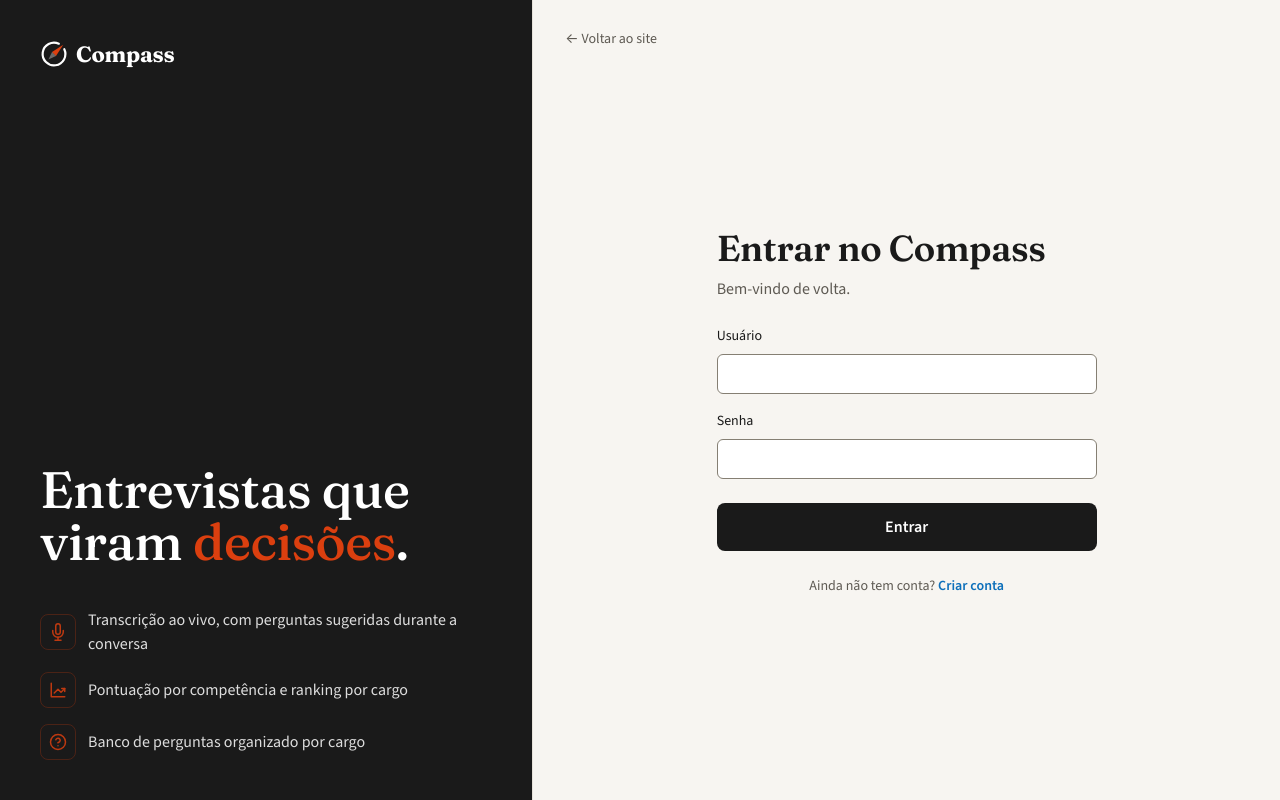
Test: login inválido mostra a mensagem da API
The image size is (1280, 800).
Type "ana" into the field labelled "Usuário".
click(907, 374); type("ana")  # box [717,354,1097,394]
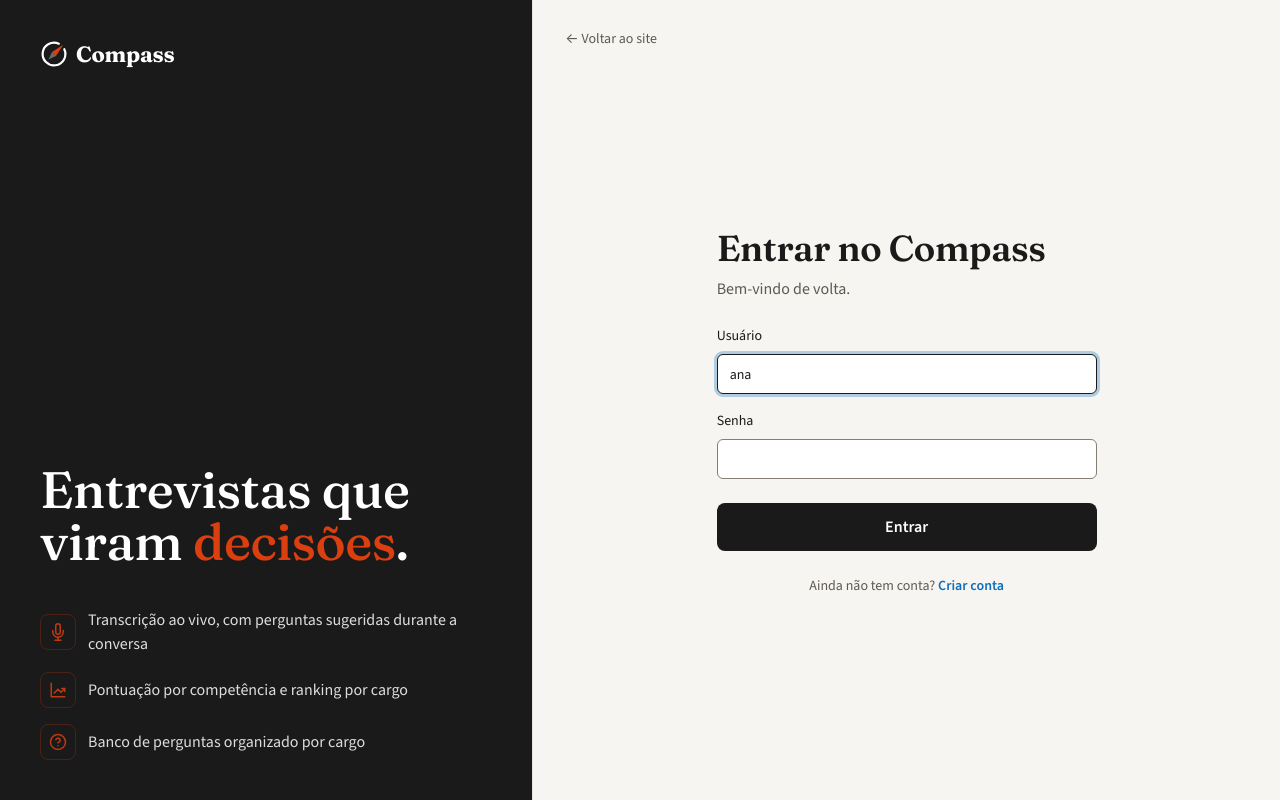
Type "errada" into the password field labelled "Senha".
click(907, 459); type("errada")  # box [717,439,1097,479]
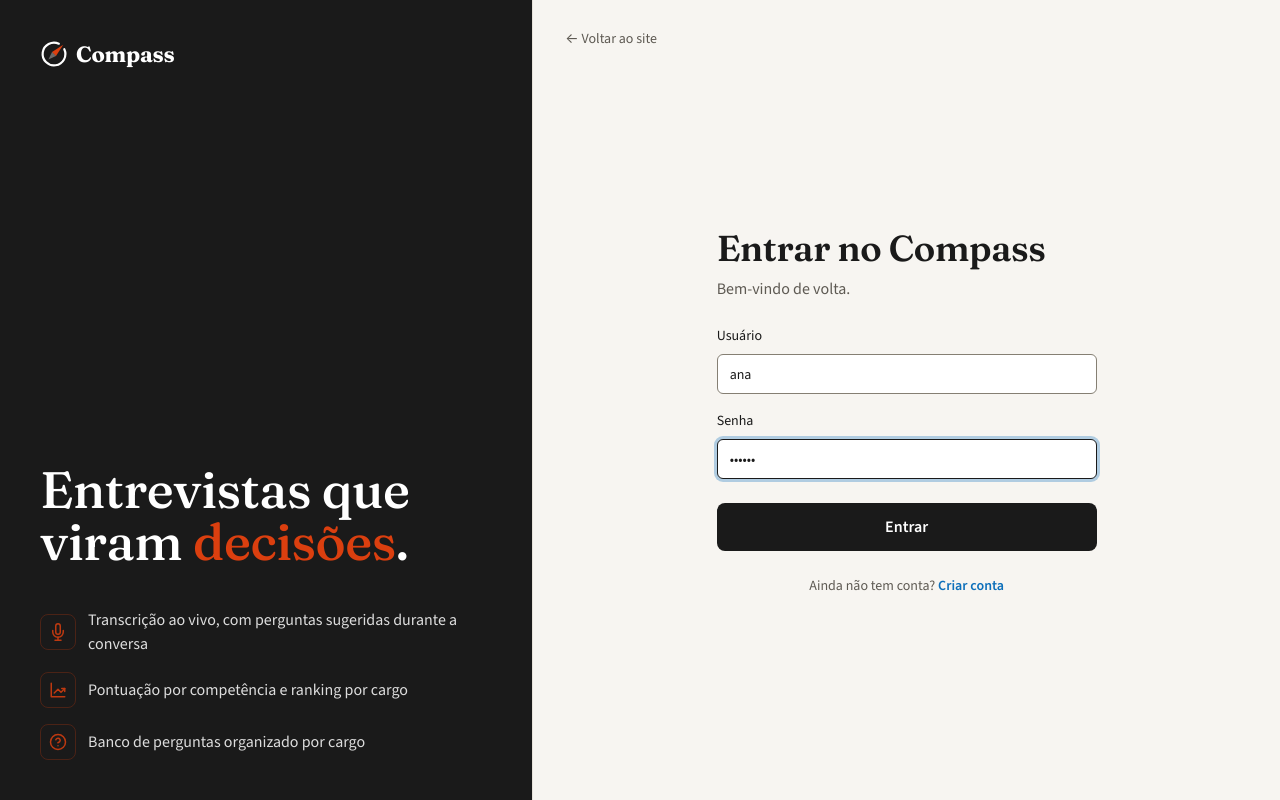
Click the button "Entrar".
click(907, 527)  # box [717,503,1097,551]
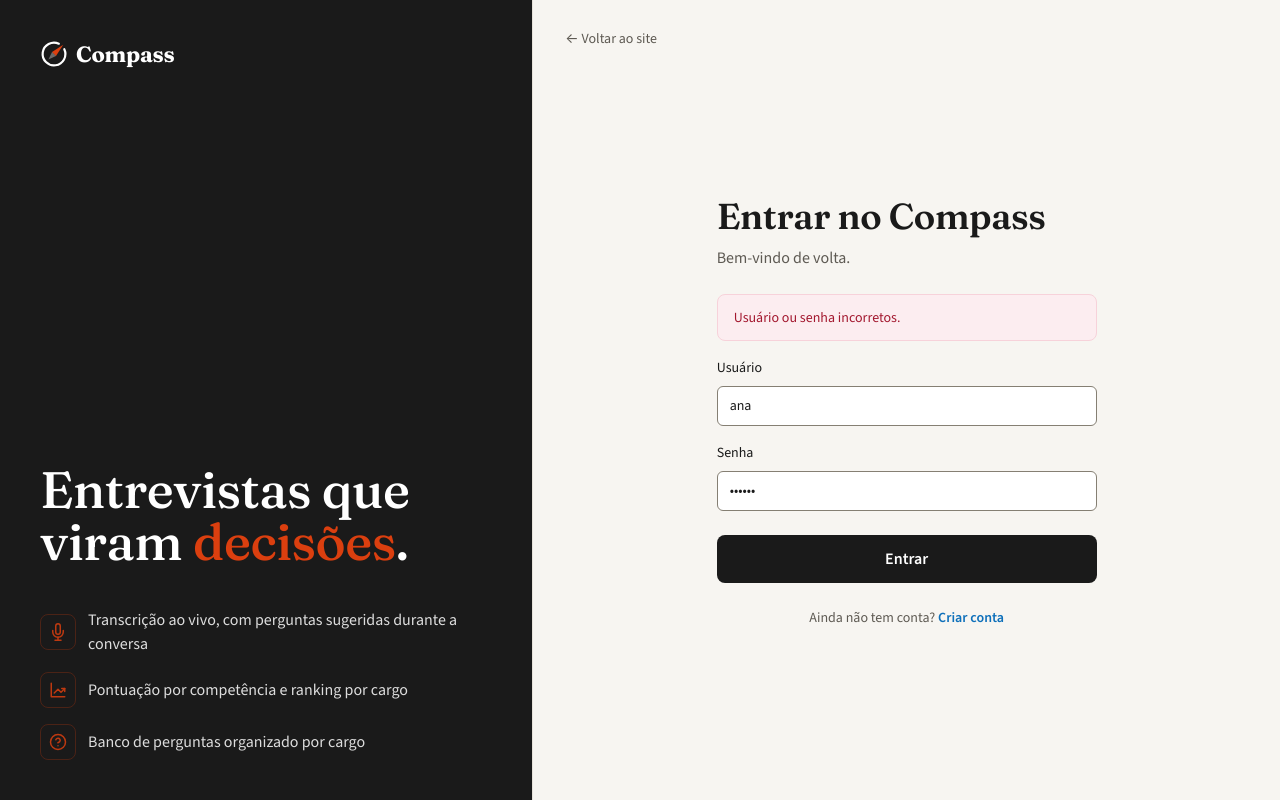
Check: the message reads "Usuário ou senha incorretos.", box [734,308,900,327]
